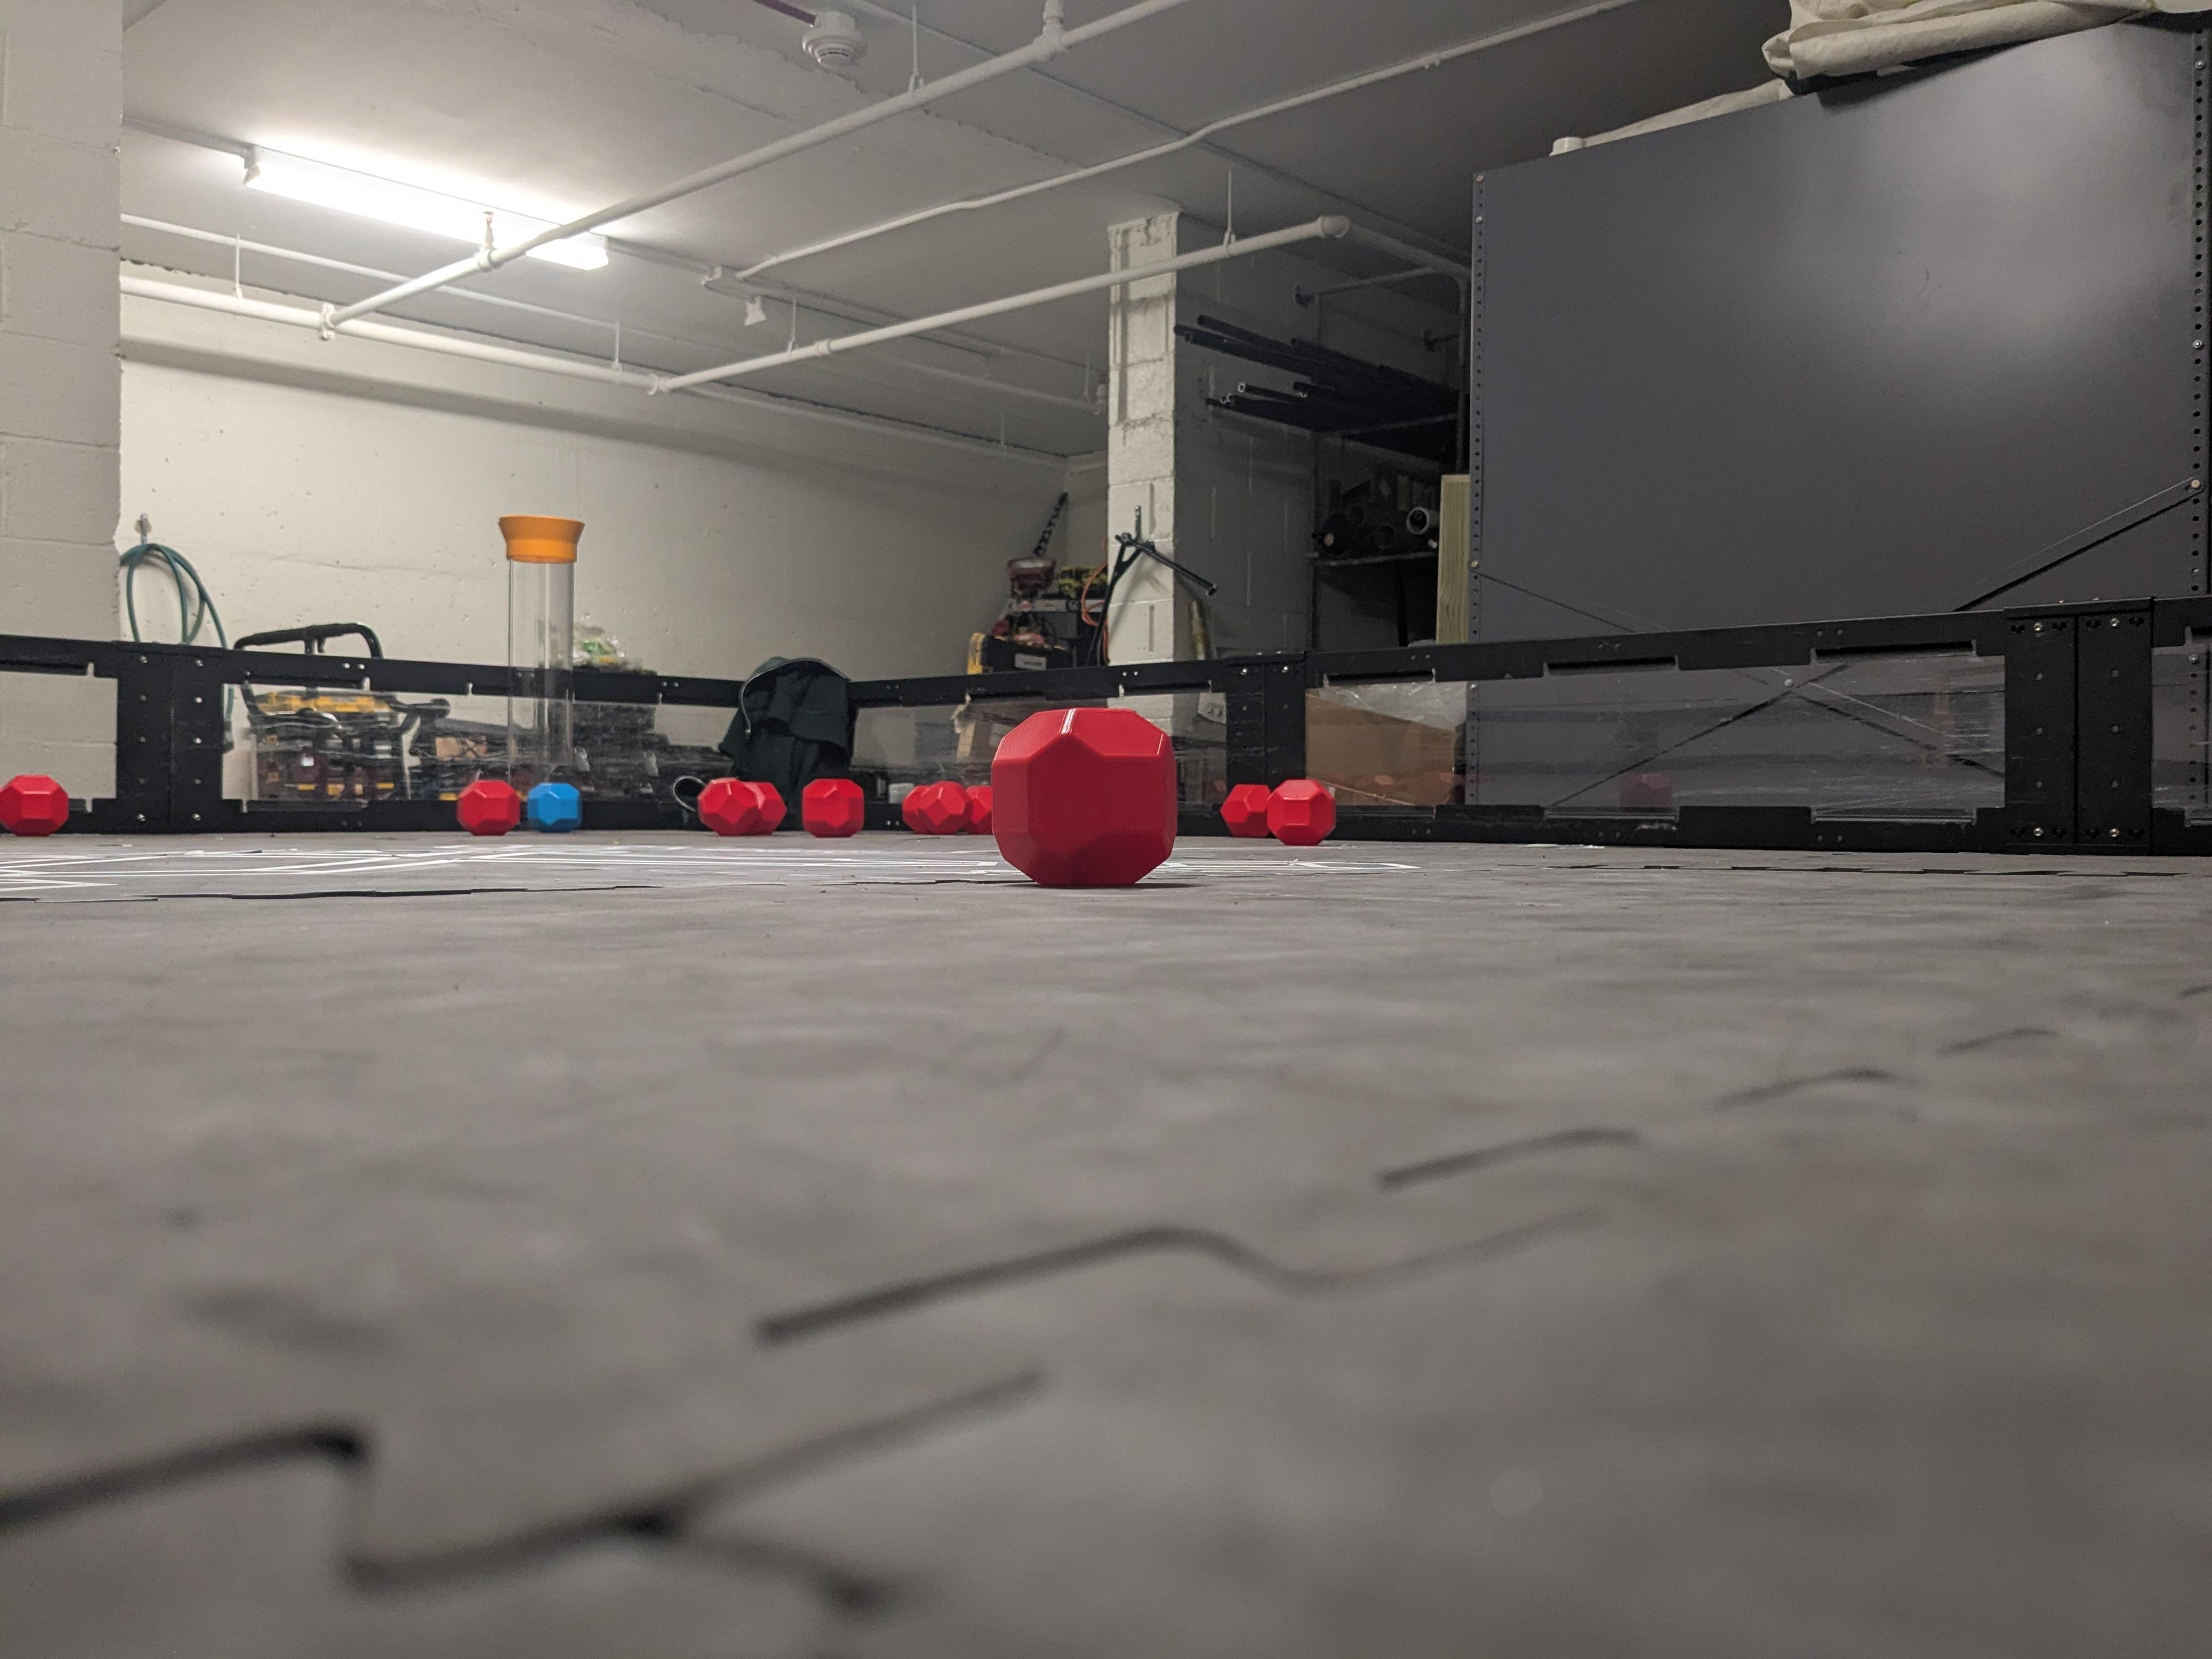Vex-Pieces-RED: (995, 709, 1176, 889), (698, 777, 786, 835), (1266, 779, 1334, 845), (0, 774, 70, 835), (456, 779, 523, 835), (902, 781, 968, 835), (803, 779, 864, 836), (1221, 784, 1270, 836), (965, 784, 991, 835)
